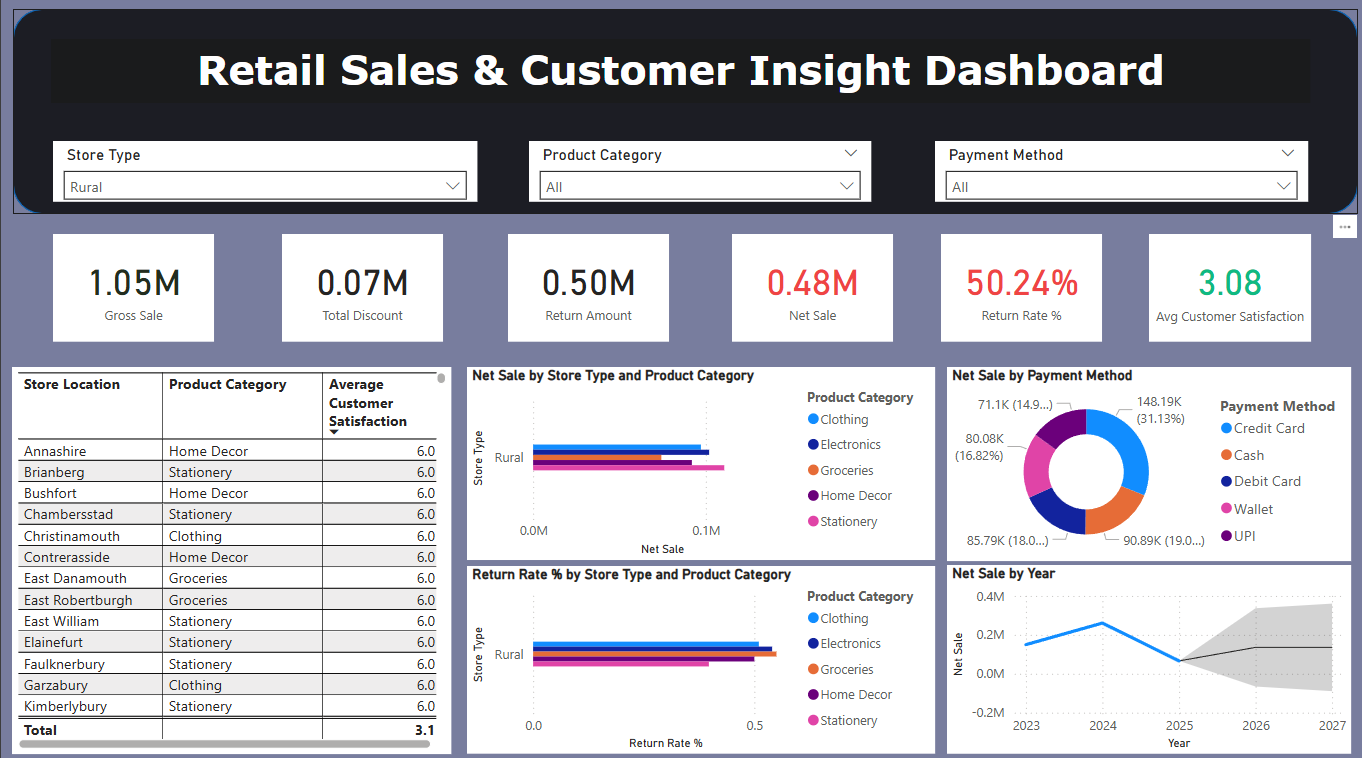

The page's visual inventory and layout, read from the dashboard file:
{"tool":"powerbi","page":{"name":"Overview","canvas":[1280,720],"ordinal":0},"visuals":[{"type":"shape","box":[11.3,13.1,1261.2,192.2],"z":0},{"type":"clusteredBarChart","title":"Net Sale by Store Type and Product Category","fields":{"Category":["_Work_Sheet_retail_sales_customer_satis.Store_Type"],"Series":["_Work_Sheet_retail_sales_customer_satis.Product_Category"],"Y":["_Work_Sheet_retail_sales_customer_satis.Net Sale"]},"box":[437,348.8,438.9,181],"z":1000},{"type":"card","fields":{"Values":["_Work_Sheet_retail_sales_customer_satis.Estimated Return Amount"]},"box":[475.4,224.2,151,100.8],"z":2000},{"type":"card","fields":{"Values":["_Work_Sheet_retail_sales_customer_satis.Gross Sale"]},"box":[49.1,224.2,151,100.8],"z":3000},{"type":"card","fields":{"Values":["_Work_Sheet_retail_sales_customer_satis.Estimated Total Discount"]},"box":[263.3,224.2,151,100.8],"z":4000},{"type":"card","fields":{"Values":["_Work_Sheet_retail_sales_customer_satis.Net Sale"]},"box":[685.5,224.2,151,100.8],"z":5000},{"type":"textbox","box":[47.3,41,1181.3,59.9],"z":6000},{"type":"card","fields":{"Values":["_Work_Sheet_retail_sales_customer_satis.Return Rate %"]},"box":[881.8,224.2,151,100.8],"z":7000},{"type":"clusteredBarChart","title":"Return Rate % by Store Type and Product Category","fields":{"Category":["_Work_Sheet_retail_sales_customer_satis.Store_Type"],"Y":["_Work_Sheet_retail_sales_customer_satis.Return Rate %"],"Series":["_Work_Sheet_retail_sales_customer_satis.Product_Category"]},"box":[436.8,535.5,438.9,176.4],"z":8000},{"type":"donutChart","fields":{"Category":["_Work_Sheet_retail_sales_customer_satis.Payment_Method"],"Y":["_Work_Sheet_retail_sales_customer_satis.Net Sale"]},"box":[887.3,348.6,379.1,181.7],"z":9000},{"type":"card","fields":{"Values":["Avg(_Work_Sheet_retail_sales_customer_satis.Customer_Satisfaction_Rating)"]},"box":[1076.5,224.1,151.9,101.3],"z":10000},{"type":"tableEx","fields":{"Values":["_Work_Sheet_retail_sales_customer_satis.Store_Location","_Work_Sheet_retail_sales_customer_satis.Product_Category","_Work_Sheet_retail_sales_customer_satis.Average Customer Satisfaction"]},"box":[10.5,348.6,411.6,363.3],"z":11000},{"type":"lineChart","fields":{"Category":["_Work_Sheet_retail_sales_customer_satis.Purchase_Date.Variation.Date Hierarchy.Year","_Work_Sheet_retail_sales_customer_satis.Purchase_Date.Variation.Date Hierarchy.Quarter","_Work_Sheet_retail_sales_customer_satis.Purchase_Date.Variation.Date Hierarchy.Month","_Work_Sheet_retail_sales_customer_satis.Purchase_Date.Variation.Date Hierarchy.Day"],"Y":["_Work_Sheet_retail_sales_customer_satis.Net Sale"]},"box":[887.3,534.5,379.1,177.5],"z":12000},{"type":"slicer","fields":{"Values":["_Work_Sheet_retail_sales_customer_satis.Store_Type"]},"box":[48.8,136.9,397.6,57.2],"z":13000},{"type":"slicer","fields":{"Values":["_Work_Sheet_retail_sales_customer_satis.Payment_Method"]},"box":[875.8,136.9,349.8,57.2],"z":14000},{"type":"slicer","fields":{"Values":["_Work_Sheet_retail_sales_customer_satis.Product_Category"]},"box":[495.1,136.9,320.7,57.2],"z":15000}]}

Visuals, with their boxes in screenshot pixels (x1, y1, x2, y2), scaled from the page's 1280x720 canvas onto the 1362x758 screenshot:
shape: <bbox>12, 14, 1354, 216</bbox>
"Net Sale by Store Type and Product Category" clusteredBarChart: <bbox>465, 367, 932, 558</bbox>
card - _Work_Sheet_retail_sales_customer_satis.Estimated Return Amount: <bbox>506, 236, 667, 342</bbox>
card - _Work_Sheet_retail_sales_customer_satis.Gross Sale: <bbox>52, 236, 213, 342</bbox>
card - _Work_Sheet_retail_sales_customer_satis.Estimated Total Discount: <bbox>280, 236, 441, 342</bbox>
card - _Work_Sheet_retail_sales_customer_satis.Net Sale: <bbox>729, 236, 890, 342</bbox>
textbox: <bbox>50, 43, 1307, 106</bbox>
card - _Work_Sheet_retail_sales_customer_satis.Return Rate %: <bbox>938, 236, 1099, 342</bbox>
"Return Rate % by Store Type and Product Category" clusteredBarChart: <bbox>465, 564, 932, 749</bbox>
donutChart - _Work_Sheet_retail_sales_customer_satis.Payment_Method x _Work_Sheet_retail_sales_customer_satis.Net Sale: <bbox>944, 367, 1348, 558</bbox>
card - Avg(_Work_Sheet_retail_sales_customer_satis.Customer_Satisfaction_Rating): <bbox>1145, 236, 1307, 343</bbox>
tableEx - _Work_Sheet_retail_sales_customer_satis.Store_Location x _Work_Sheet_retail_sales_customer_satis.Product_Category: <bbox>11, 367, 449, 749</bbox>
lineChart - _Work_Sheet_retail_sales_customer_satis.Purchase_Date.Variation.Date Hierarchy.Year x _Work_Sheet_retail_sales_customer_satis.Purchase_Date.Variation.Date Hierarchy.Quarter: <bbox>944, 563, 1348, 750</bbox>
slicer - _Work_Sheet_retail_sales_customer_satis.Store_Type: <bbox>52, 144, 475, 204</bbox>
slicer - _Work_Sheet_retail_sales_customer_satis.Payment_Method: <bbox>932, 144, 1304, 204</bbox>
slicer - _Work_Sheet_retail_sales_customer_satis.Product_Category: <bbox>527, 144, 868, 204</bbox>
